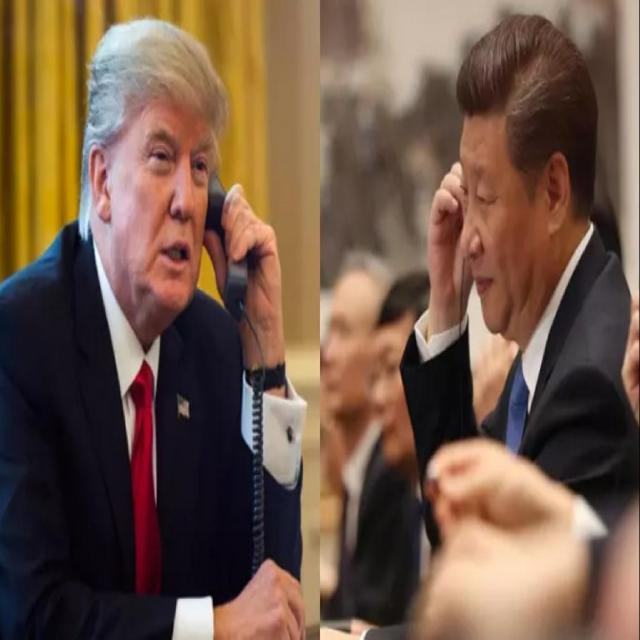phone: (186, 127, 301, 373), (408, 127, 489, 366)
